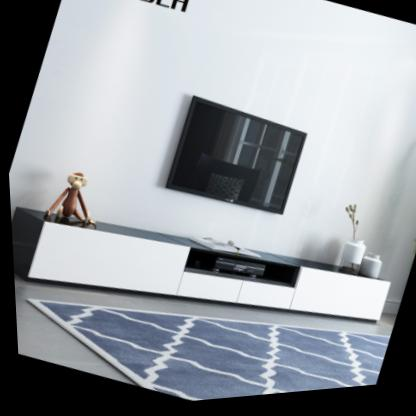Carpet: (23, 299, 386, 404)
TV stand: (9, 208, 388, 331)
